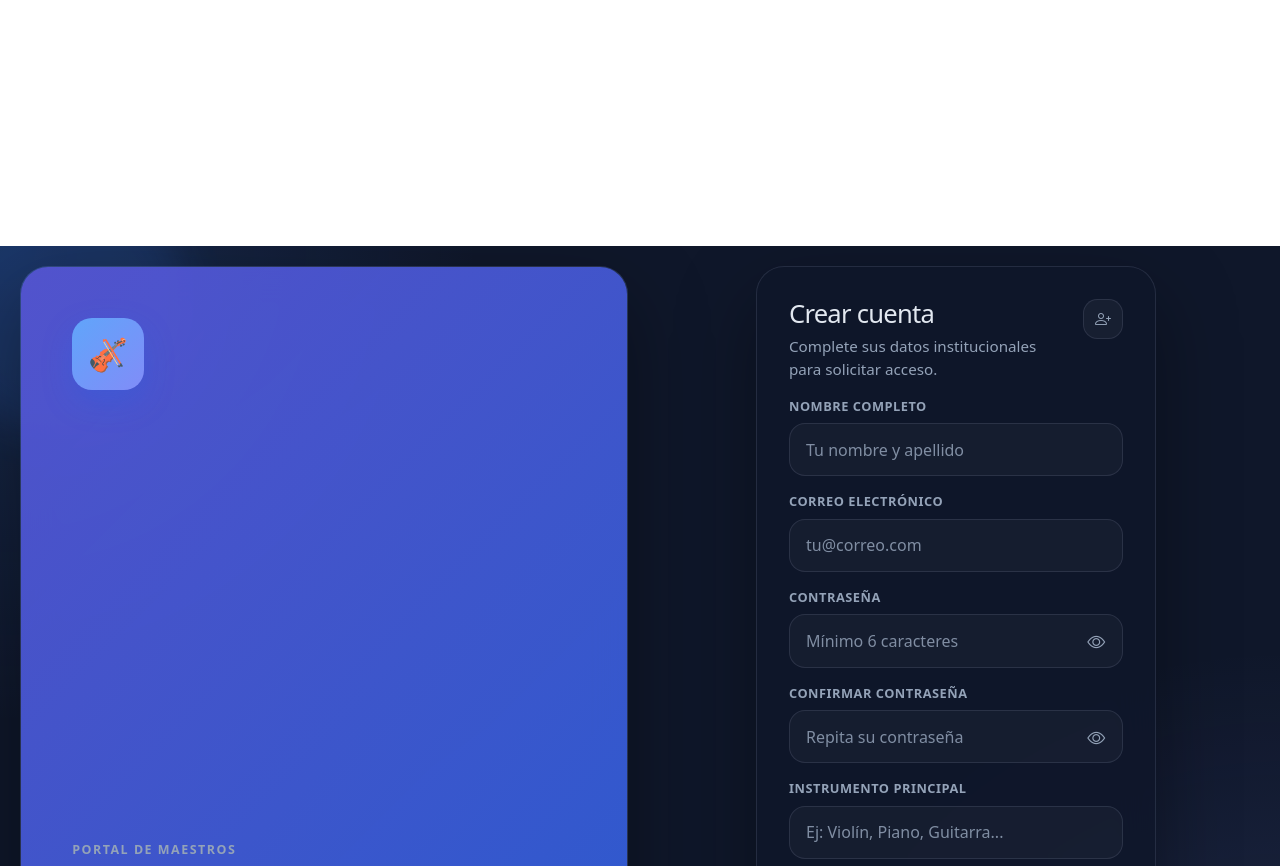
Test: registerView › shows error message when email is already registered
Step 1. Type "Juan Pérez" into the field labelled "Nombre completo" → (956, 450), box [789,423,1123,476]
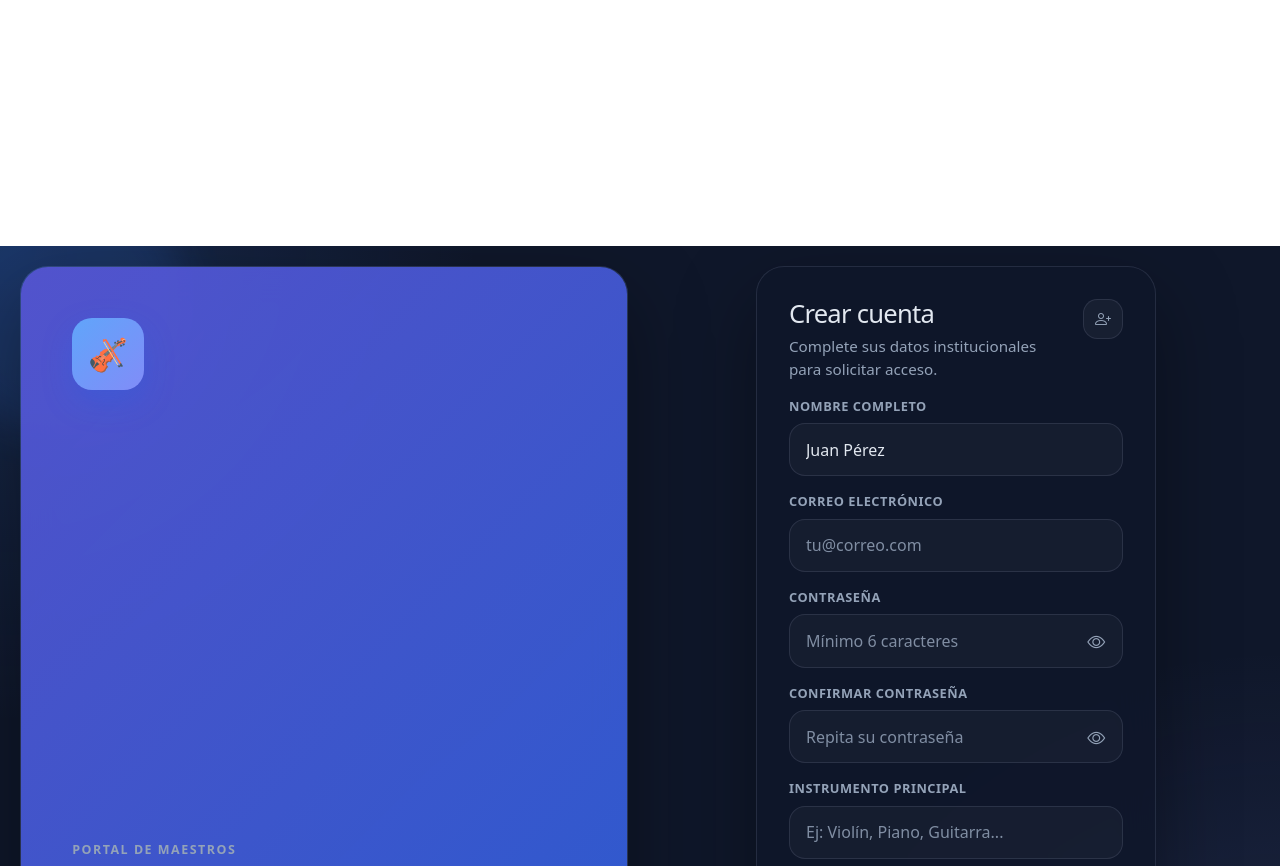
Step 2. Type "existing@test.com" into the field labelled "Correo electrónico" → (956, 545), box [789,519,1123,572]
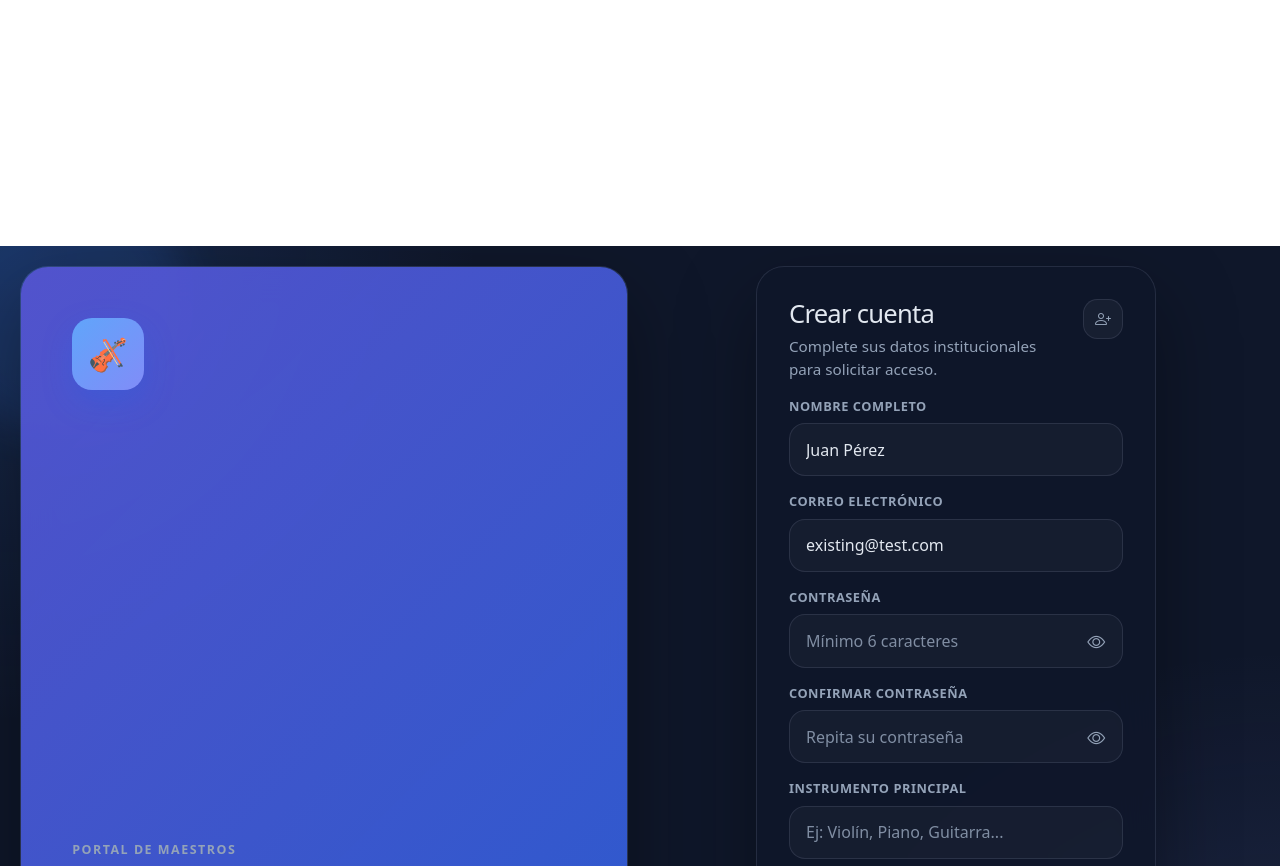
Step 3. Type "123456" into the password field labelled "Contraseña" → (956, 641), box [789,614,1123,668]
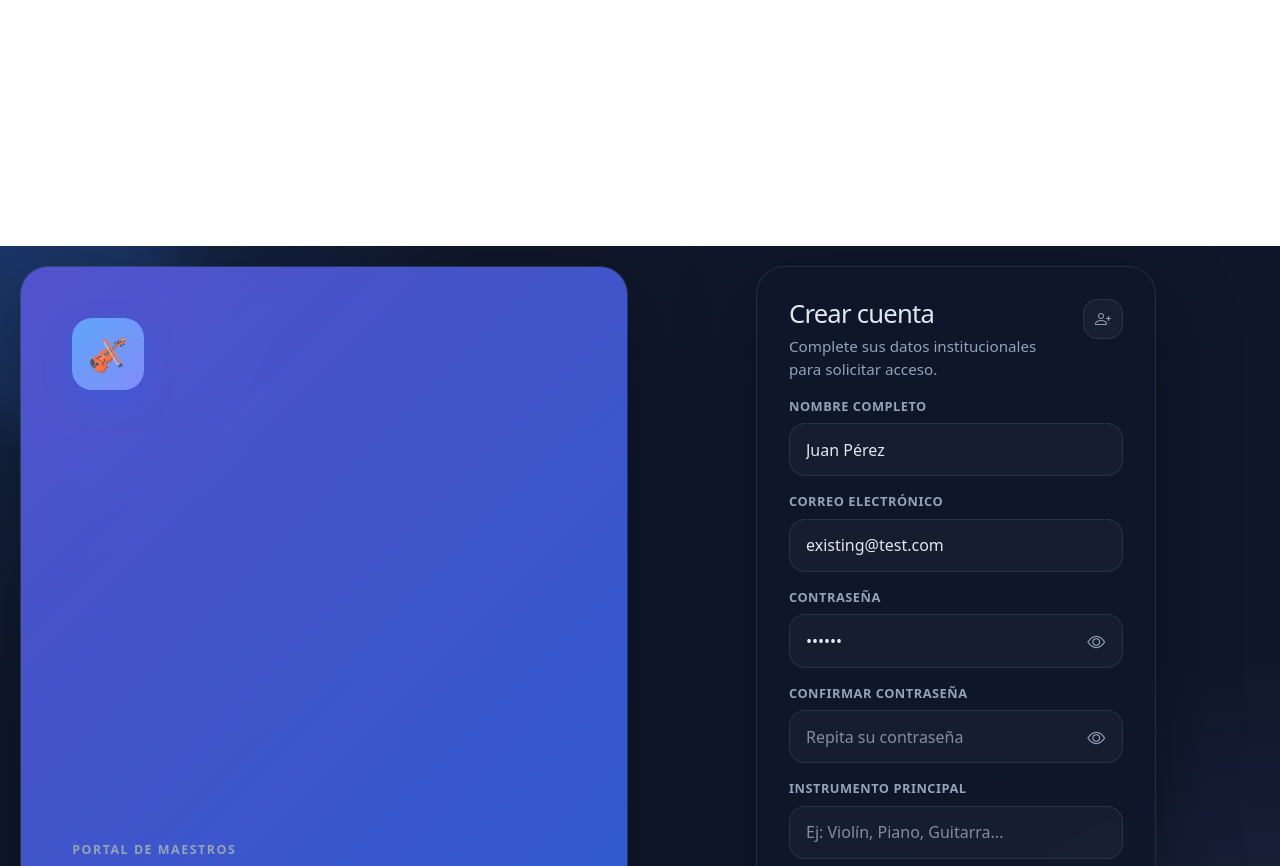
Step 4. Type "123456" into the password field labelled "Confirmar contraseña" → (956, 737), box [789,710,1123,763]
(page scrolled)
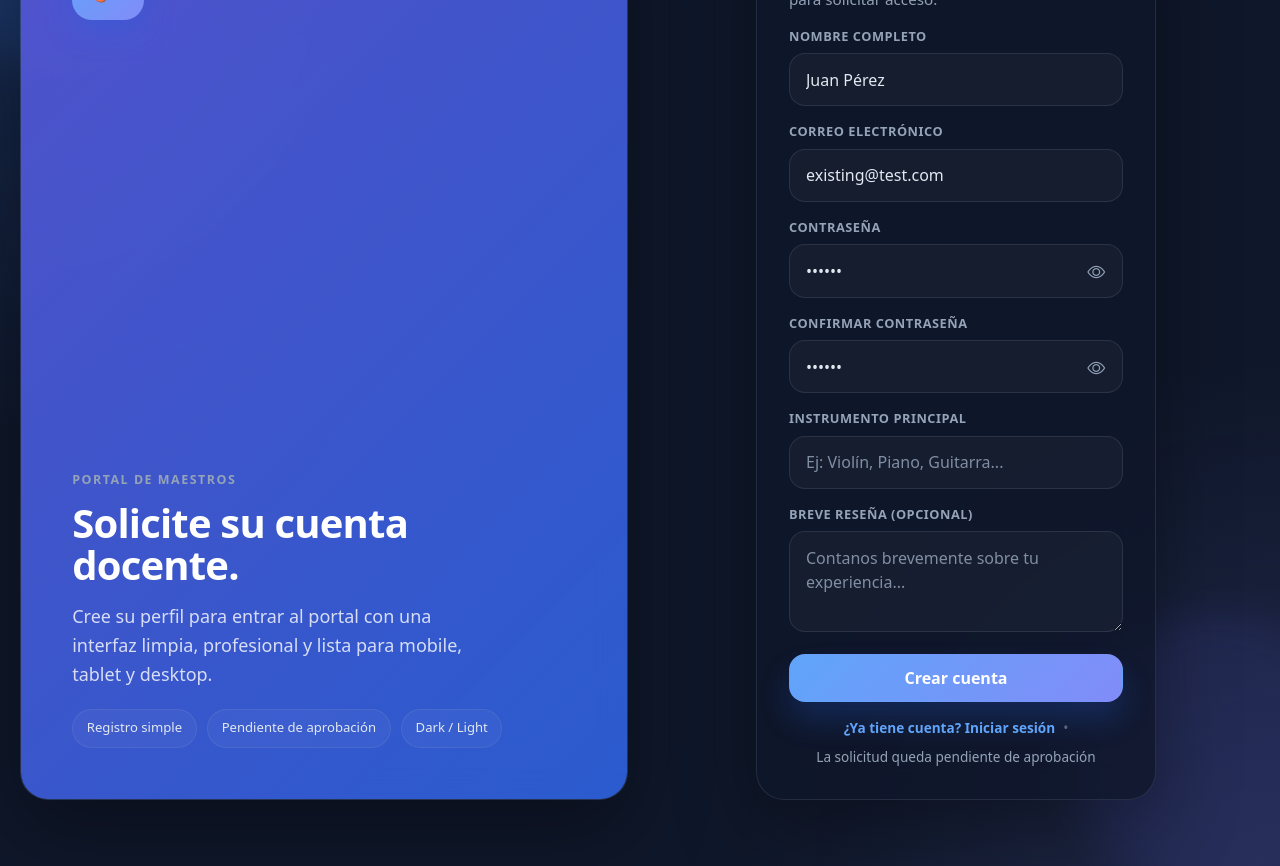
Step 5. Click the button "Crear cuenta" → (956, 678), box [789,654,1123,702]
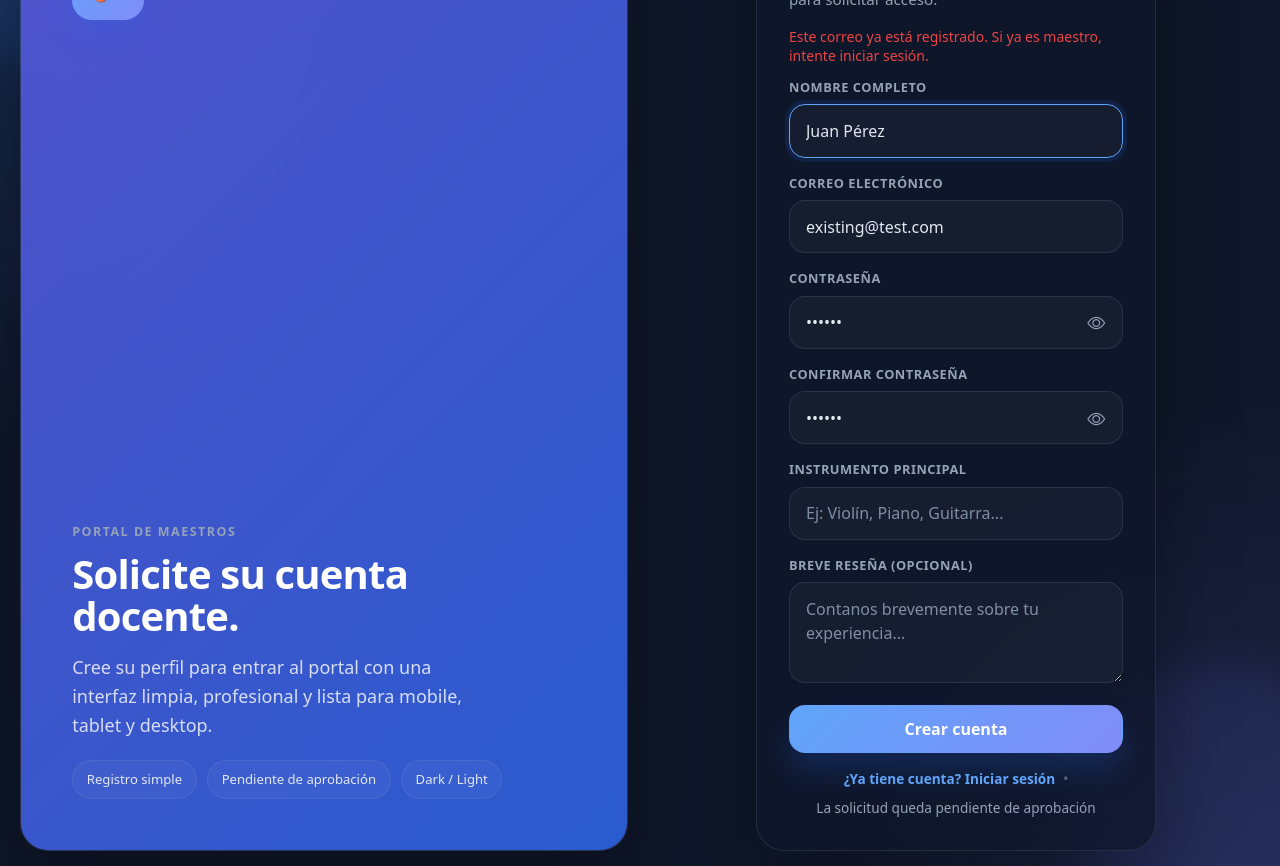
Now the message "Este correo ya está registrado. Si ya es maestro, intente iniciar sesión." is shown, box [789,27,1123,66]
